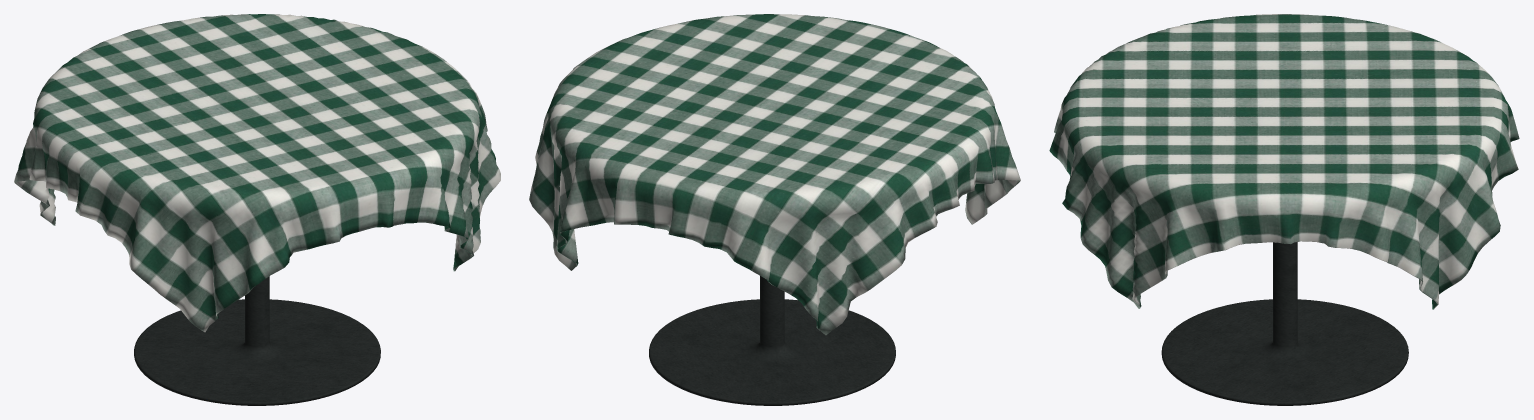
File: dinner-table-002-5f09a841.glb
3 views of the same model, side by side, from view 1: azimuth 30°, elevation 25°; view 2: azimuth 150°, elevation 25°; view 3: azimuth 270°, elevation 25° (orthographic).
Visible parts, largest first — view 1: Table; view 2: Table; view 3: Table.
Boxes of the visible parts, x1,y1,x2,y2 form: Table: (14, 14, 500, 405); Table: (529, 14, 1020, 405); Table: (1049, 14, 1519, 405).
Size of the model in its own units: 1.32 by 0.7853 by 1.33.
Materials: 1 (1 with a texture image).
